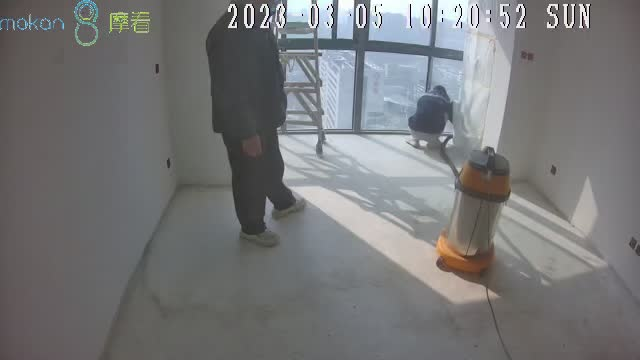people: (214, 1, 296, 247), (404, 84, 452, 148)
window: (261, 1, 465, 135)
